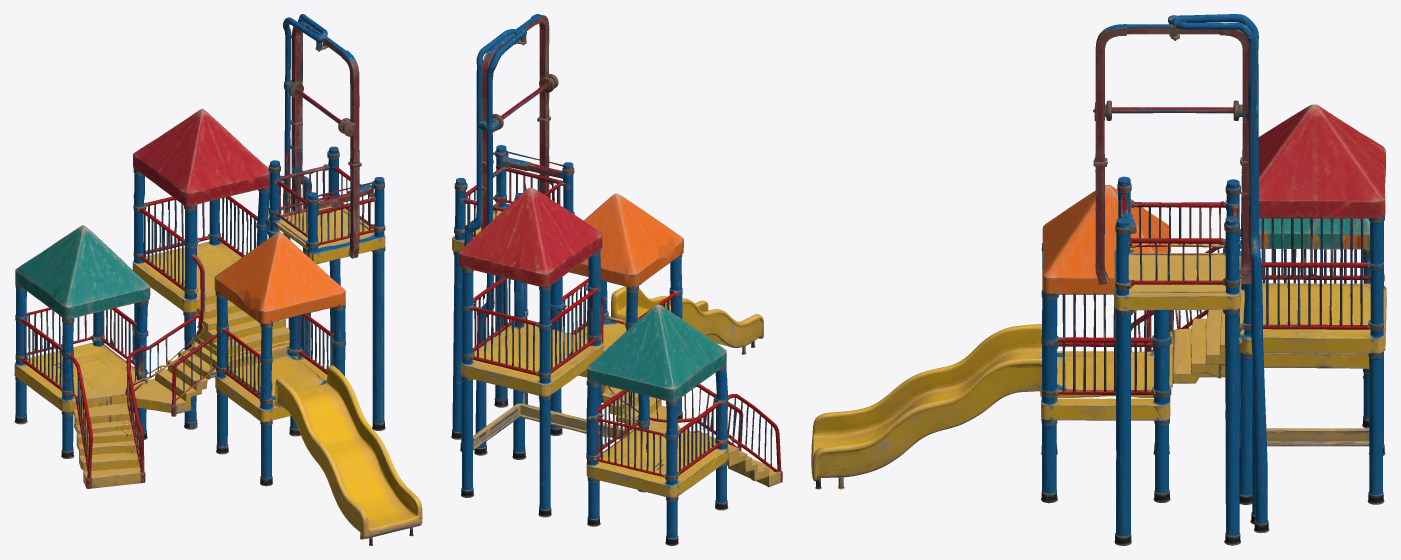
Rendered from struttura_variante.glb.
3 renders of one model, left to right at view 1: azimuth 30°, elevation 25°; view 2: azimuth 150°, elevation 25°; view 3: azimuth 270°, elevation 25°, orthographic. The views are drawn at different scales.
Visible parts, largest first — view 1: Mesh_0; view 2: Mesh_0; view 3: Mesh_0.
Part boxes in pixels (bbox=[...]): Mesh_0: bbox=[14, 14, 422, 545]; Mesh_0: bbox=[451, 14, 782, 545]; Mesh_0: bbox=[811, 14, 1386, 545].
Size of the model in its own units: 1.42 by 1.83 by 1.9.
Materials: 1 (1 with a texture image).
